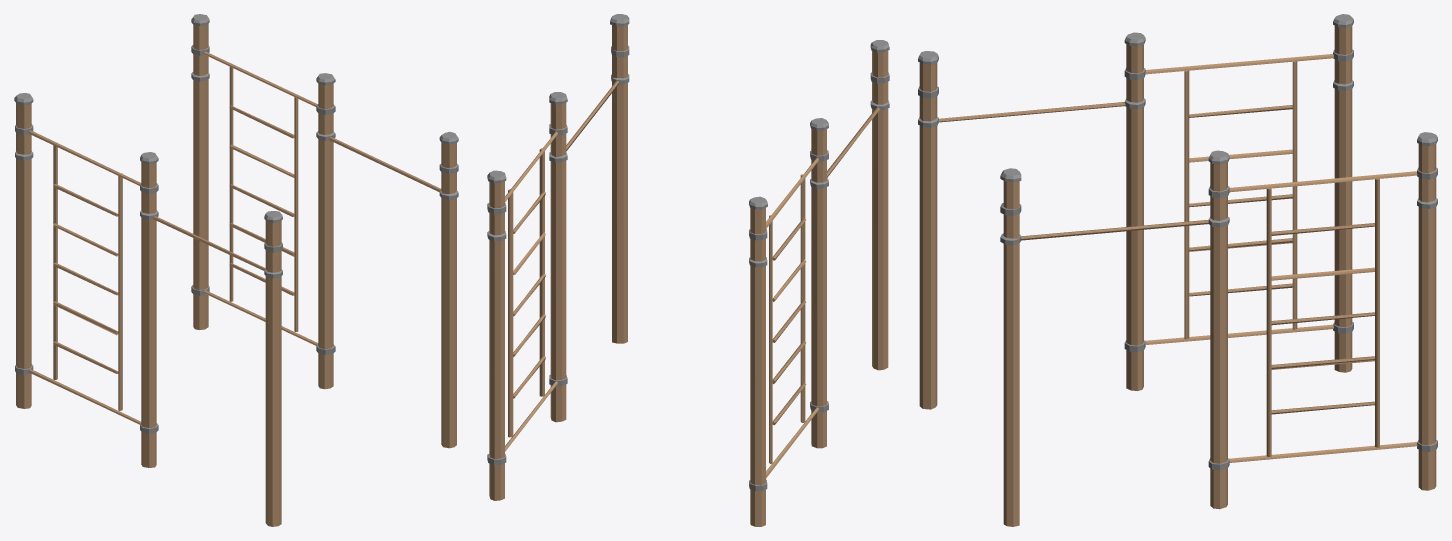
File: турник3.glb
3 views of the same model, side by side, from view 1: azimuth 30°, elevation 25°; view 2: azimuth 150°, elevation 25°; view 3: azimuth 270°, elevation 25° (orthographic). The views are drawn at different scales.
Visible parts, largest first — view 1: SM_Vostochnaya_Vl_4A_Flora.003; view 2: SM_Vostochnaya_Vl_4A_Flora.003; view 3: SM_Vostochnaya_Vl_4A_Flora.003.
Boxes of the visible parts, x1,y1,x2,y2 form: SM_Vostochnaya_Vl_4A_Flora.003: (14,14,458,526); SM_Vostochnaya_Vl_4A_Flora.003: (487,14,889,526); SM_Vostochnaya_Vl_4A_Flora.003: (918,14,1437,526).
Size of the model in its own units: 2.83 by 2.85 by 3.82.
1 material, 1 textured.
